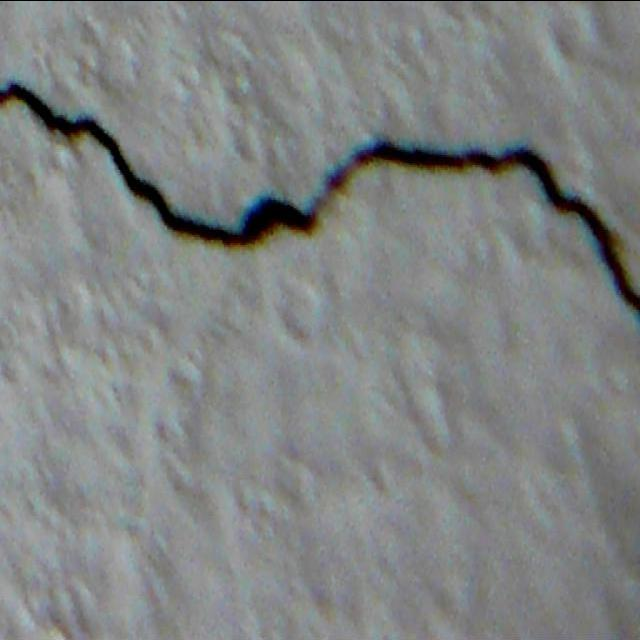Crack: (0, 76, 639, 322)
